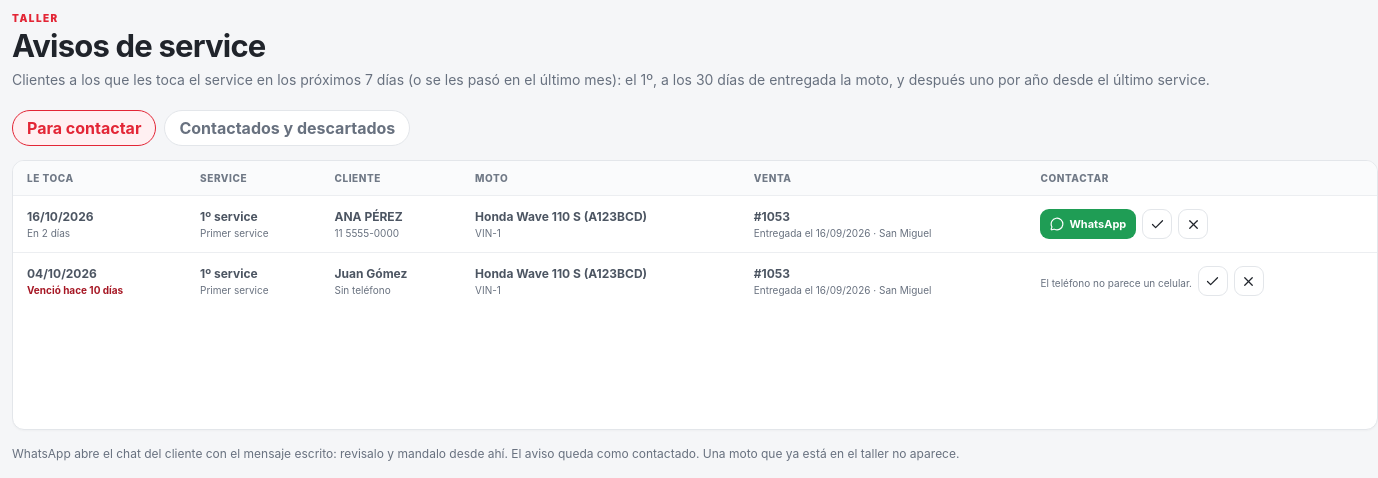
it: Avisos de service › lista a quién contactar y abre el chat de WhatsApp con el mensaje
Expected: the row that starts with "En 2 días" shows "16/10/2026", [27,209,94,224]
Expected: the row that starts with "En 2 días" is shown, [27,227,70,239]
Click the button with aria-label "Escribir por WhatsApp a ANA PÉREZ".
click(1088, 224)  # box [1040,209,1136,239]
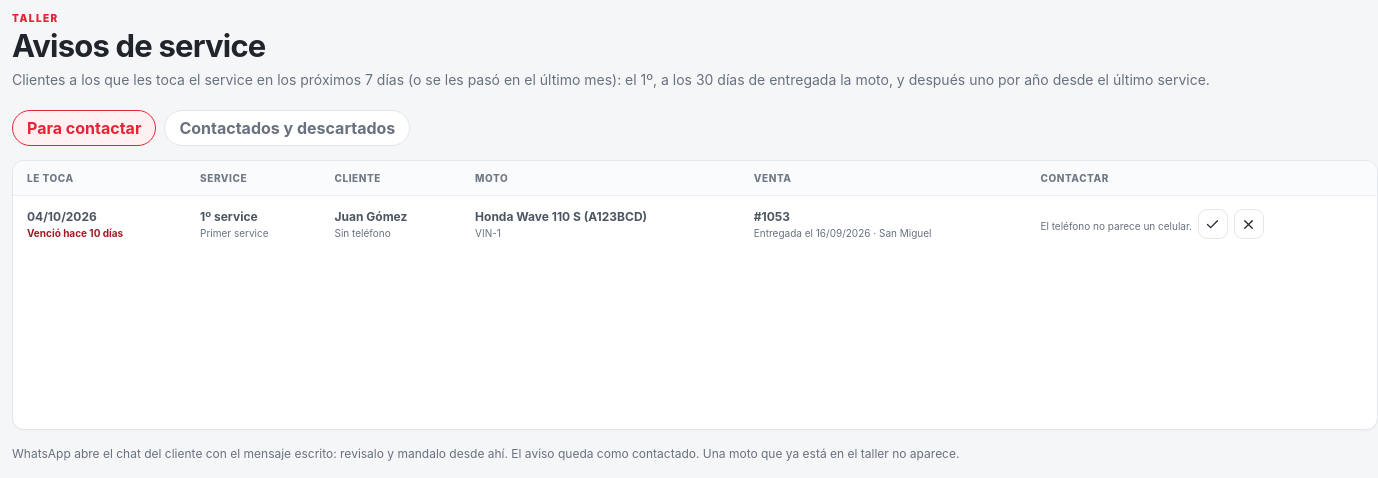
Expected: the number of rows is 2, [13,161,1377,196]; [13,196,1377,252]
